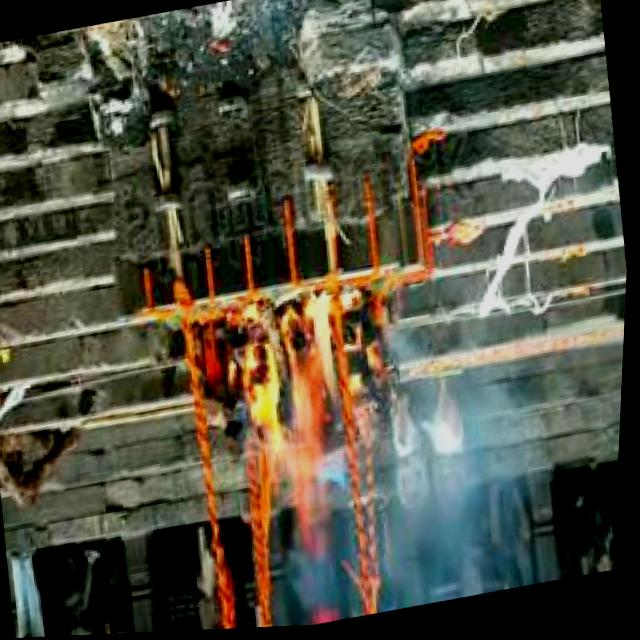helmet: (239, 287, 384, 544)
